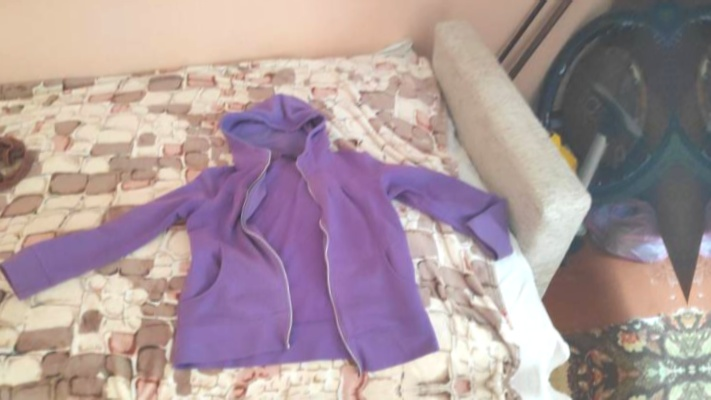Hoodie: (0, 64, 527, 394), (0, 102, 3, 400)
